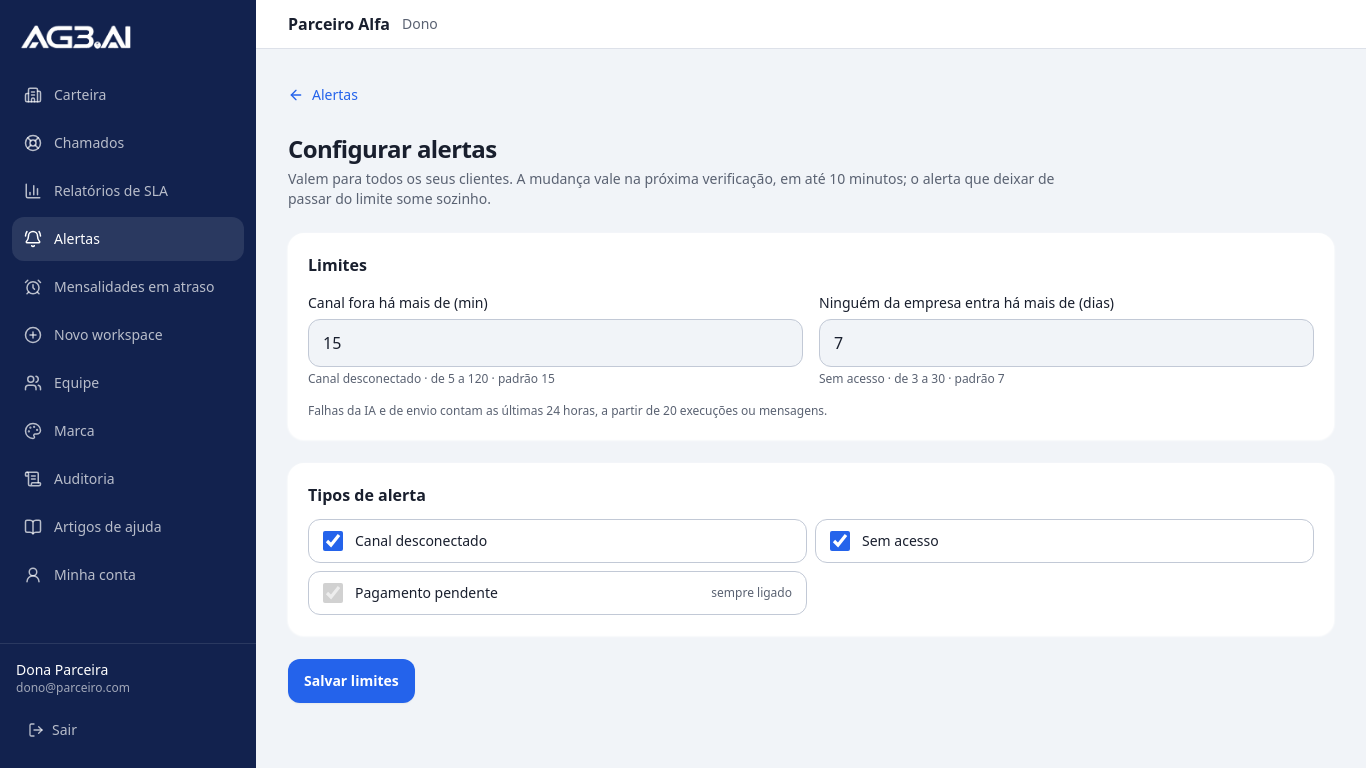
Test: configurar alertas › mostra o erro do servidor
The image size is (1366, 768).
Expected: the number field labelled "Canal fora há mais de (min)" is shown, [308,319,803,367]
Click the button "Salvar limites".
click(351, 681)  # box [288,659,415,703]
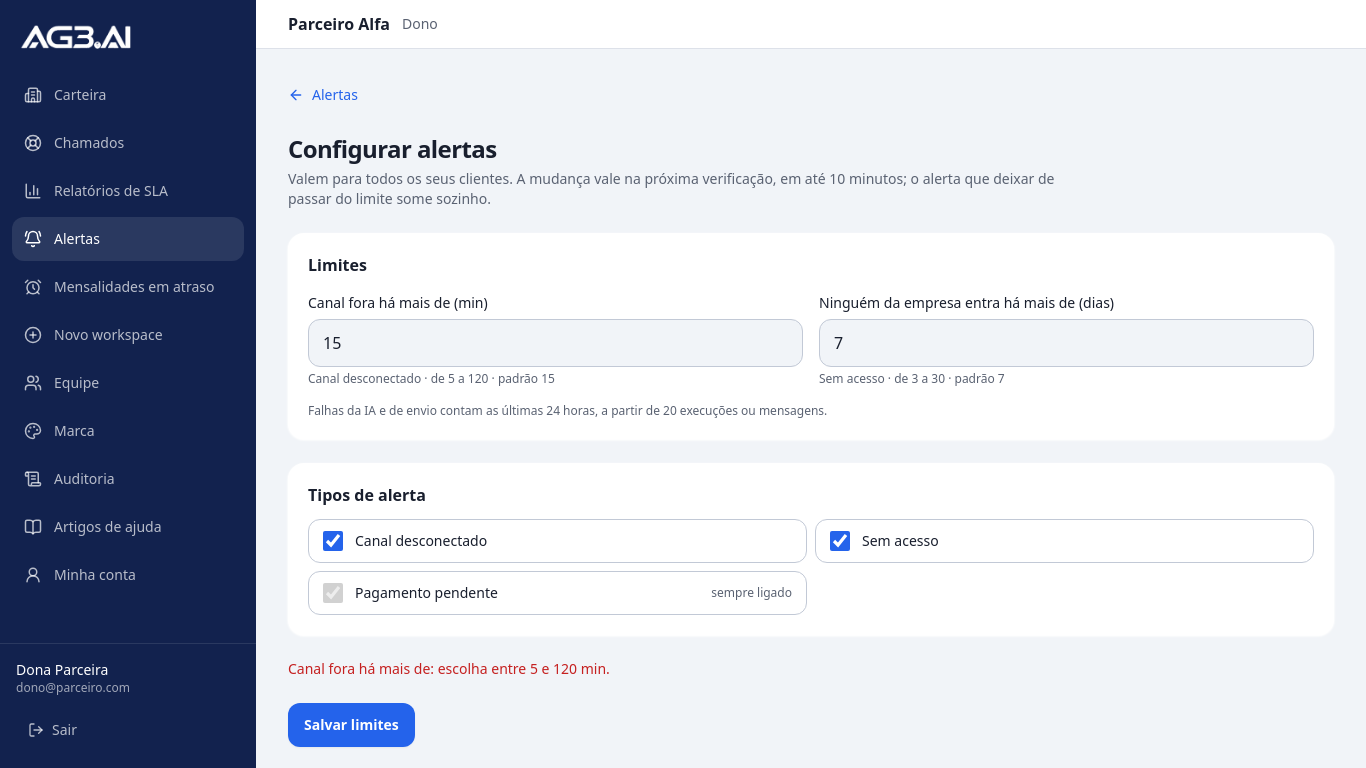
Expected: the text "Canal fora há mais de: escolha entre 5 e 120 min." is shown, [288,659,610,678]
